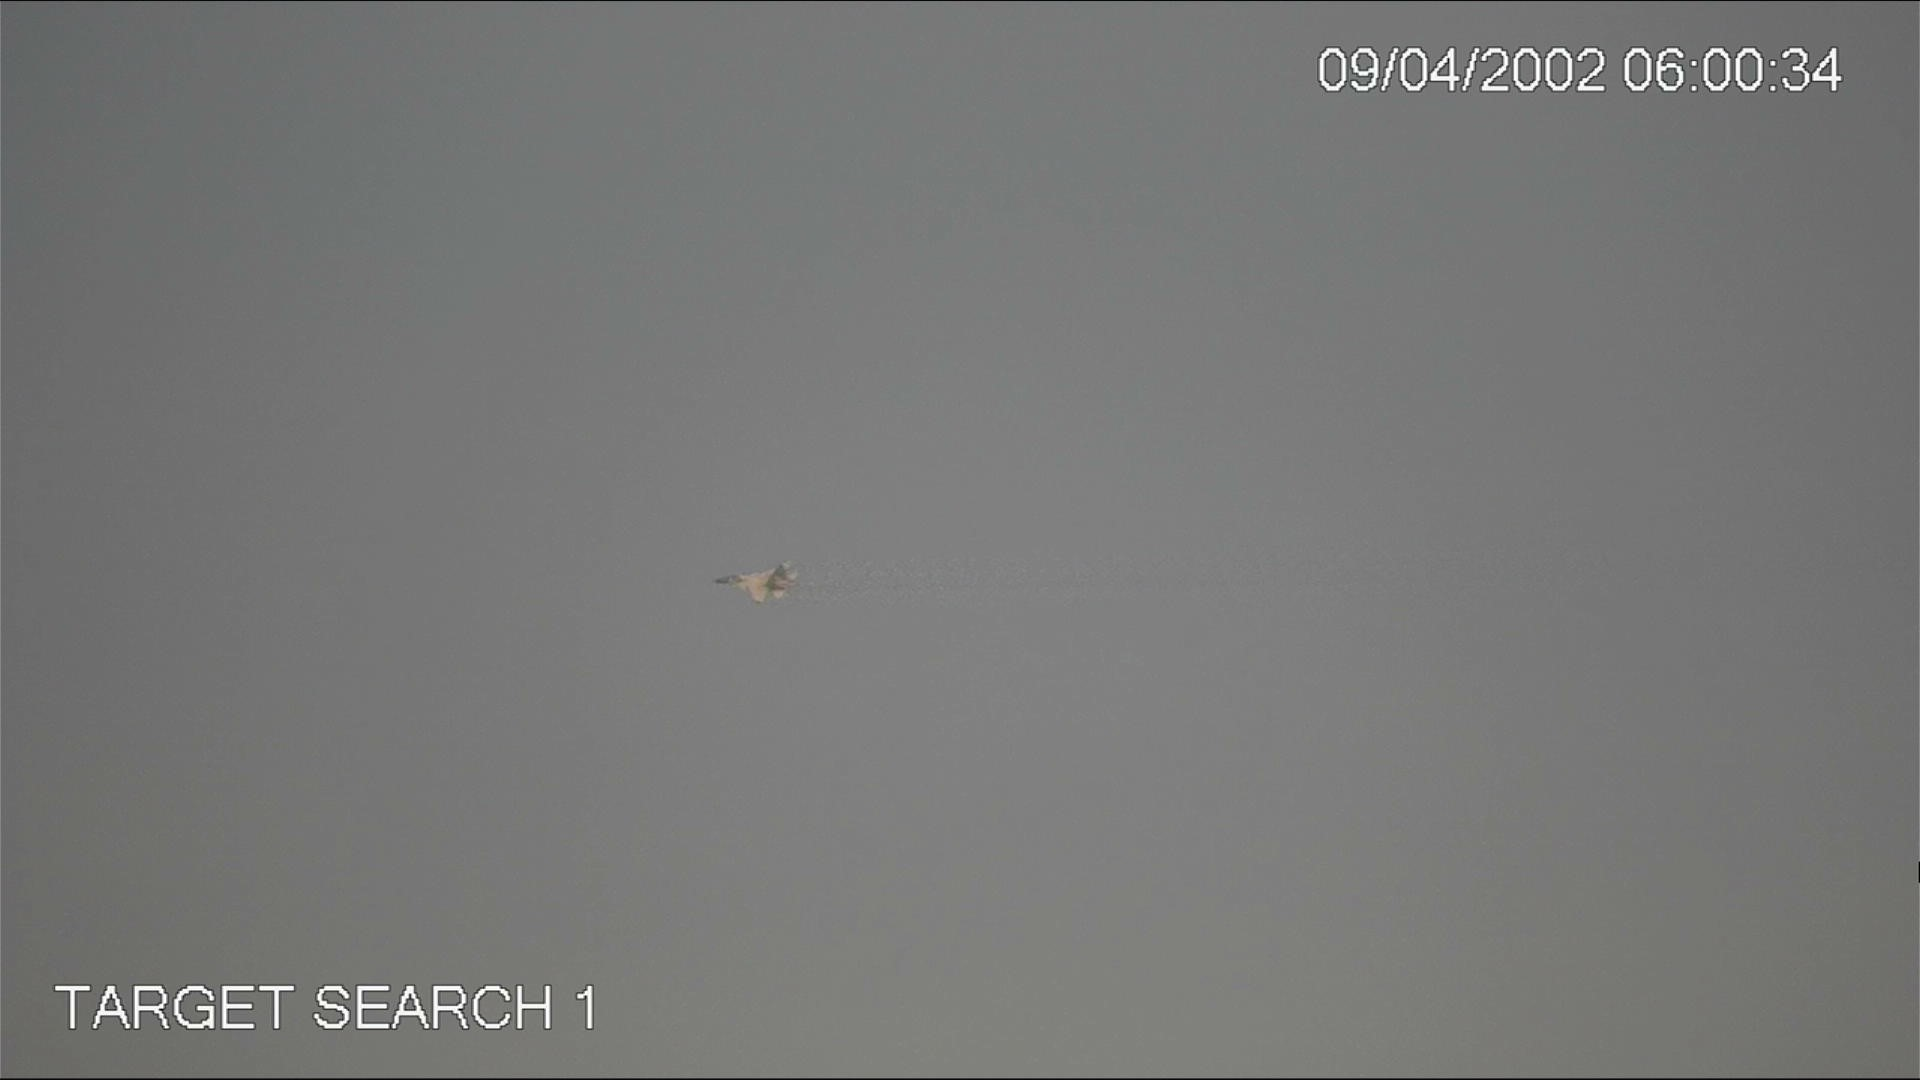SU_30: (709, 563, 802, 613)
